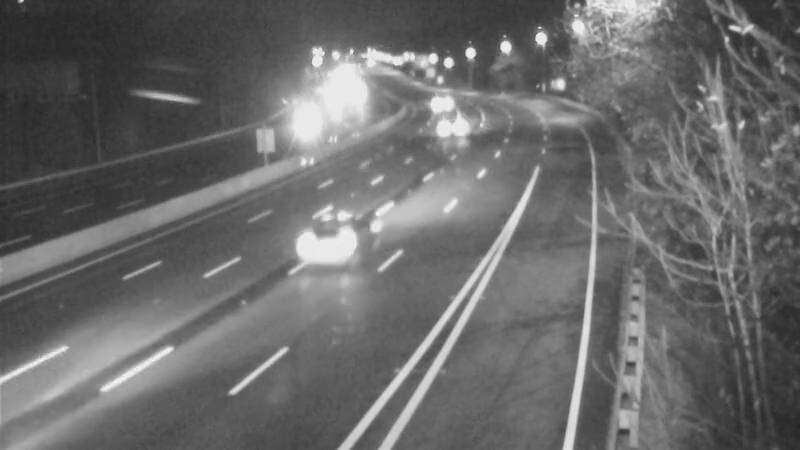vehicle: (299, 194, 379, 274), (409, 72, 459, 122), (434, 100, 484, 150), (272, 105, 322, 155)
